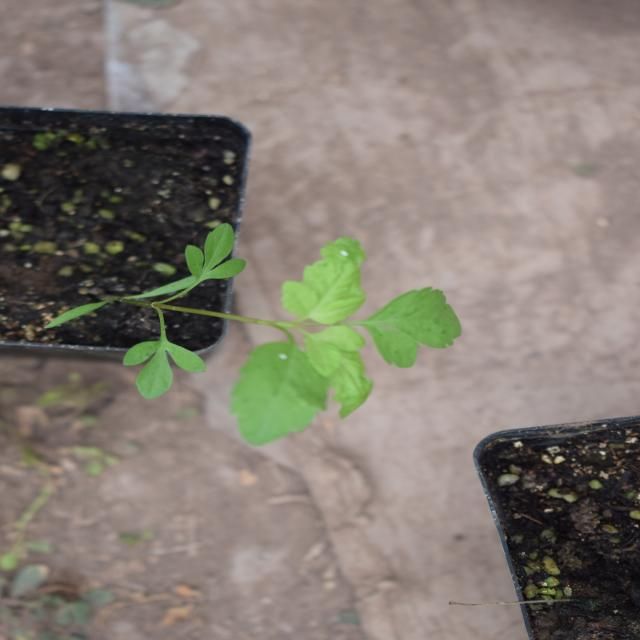Bidens pilosa: (188, 88, 412, 498)
